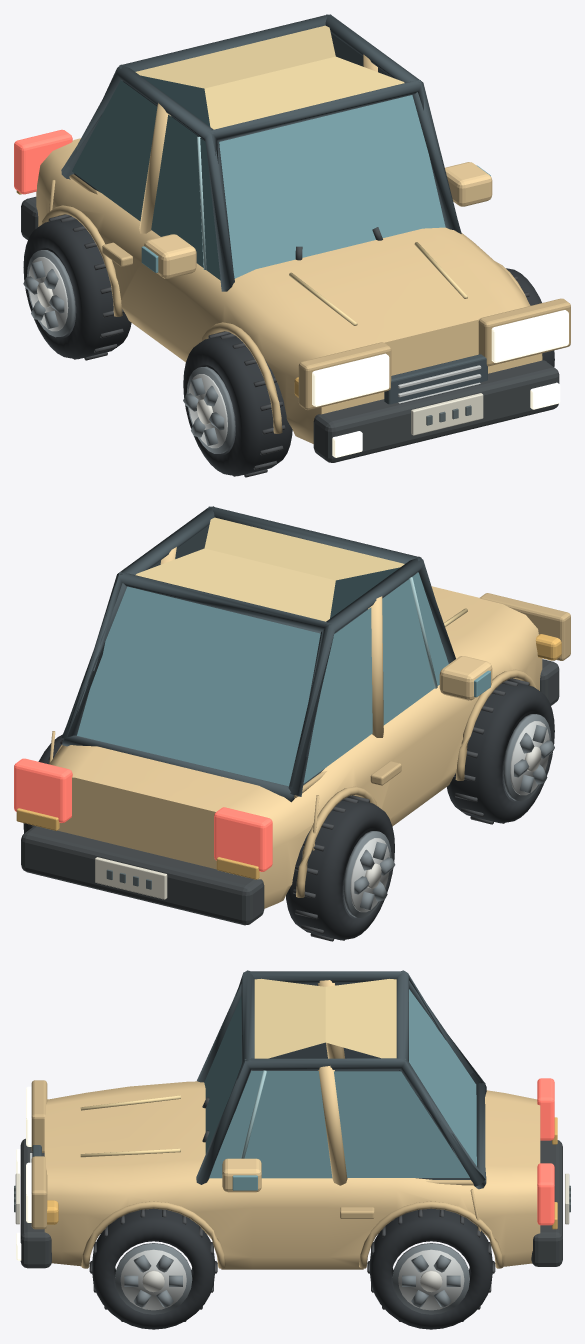
File: car_05.fbx
3 renders of one model, top to bottom at view 1: azimuth 30°, elevation 25°; view 2: azimuth 150°, elevation 25°; view 3: azimuth 270°, elevation 25°, orthographic. The views are drawn at different scales.
Visible parts, largest first — view 1: Body_SculptedShell, FrontWindscreen, Roof_CrownedPanel, FrontBumper, Tyre_FL, Tyre_RL, SideWindow_L_1, SideWindow_L_0, WindowOutline_L, WindowOutline_R, FrontWindscreenBorder, Headlamp_L (+25 smaller); view 2: Body_SculptedShell, RearWindow, Roof_CrownedPanel, RearBumper, Tyre_RL, SideWindow_L_1, Tyre_FL, SideWindow_L_0, RearWindowBorder, WindowOutline_L, TailLamp_L, TailLamp_R (+22 smaller); view 3: Body_SculptedShell, SideWindow_R_1, Roof_CrownedPanel, SideWindow_R_0, Tyre_FR, Tyre_RR, RearWindow, WindowOutline_R, RearWindowBorder, WindowOutline_L, FrontWindscreen, RearBumper (+19 smaller).
Part boxes in pixels (box(x1,y1,x2,y2)): Body_SculptedShell: box(36, 138, 542, 443); FrontWindscreen: box(219, 95, 445, 278); Roof_CrownedPanel: box(135, 25, 404, 129); FrontBumper: box(313, 360, 559, 462); Tyre_FL: box(183, 333, 292, 476); Tyre_RL: box(23, 216, 131, 359); SideWindow_L_1: box(72, 80, 157, 221); SideWindow_L_0: box(151, 114, 220, 280); WindowOutline_L: box(65, 64, 234, 289); WindowOutline_R: box(325, 14, 461, 233); FrontWindscreenBorder: box(207, 80, 455, 291); Headlamp_L: box(312, 353, 389, 406); Body_SculptedShell: box(49, 586, 542, 908); RearWindow: box(77, 586, 320, 786); Roof_CrownedPanel: box(135, 517, 404, 621); RearBumper: box(21, 826, 264, 925); Tyre_RL: box(286, 797, 394, 940); SideWindow_L_1: box(303, 607, 372, 783); Tyre_FL: box(447, 680, 554, 823); SideWindow_L_0: box(382, 572, 448, 725); RearWindowBorder: box(62, 572, 333, 802); WindowOutline_L: box(289, 556, 455, 796); TailLamp_L: box(214, 807, 272, 871); TailLamp_R: box(14, 758, 72, 822); Body_SculptedShell: box(44, 1081, 540, 1269); SideWindow_R_1: box(334, 1071, 469, 1177); Roof_CrownedPanel: box(254, 978, 396, 1058); SideWindow_R_0: box(209, 1071, 332, 1178); Tyre_FR: box(92, 1208, 214, 1329); Tyre_RR: box(370, 1208, 492, 1329); RearWindow: box(409, 989, 476, 1165); WindowOutline_R: box(196, 1058, 485, 1186); RearWindowBorder: box(396, 970, 486, 1189); WindowOutline_L: box(197, 971, 481, 1082); FrontWindscreen: box(204, 996, 241, 1153); RearBumper: box(531, 1140, 562, 1266).
Size of the model in its own units: 227 by 187 by 372.
